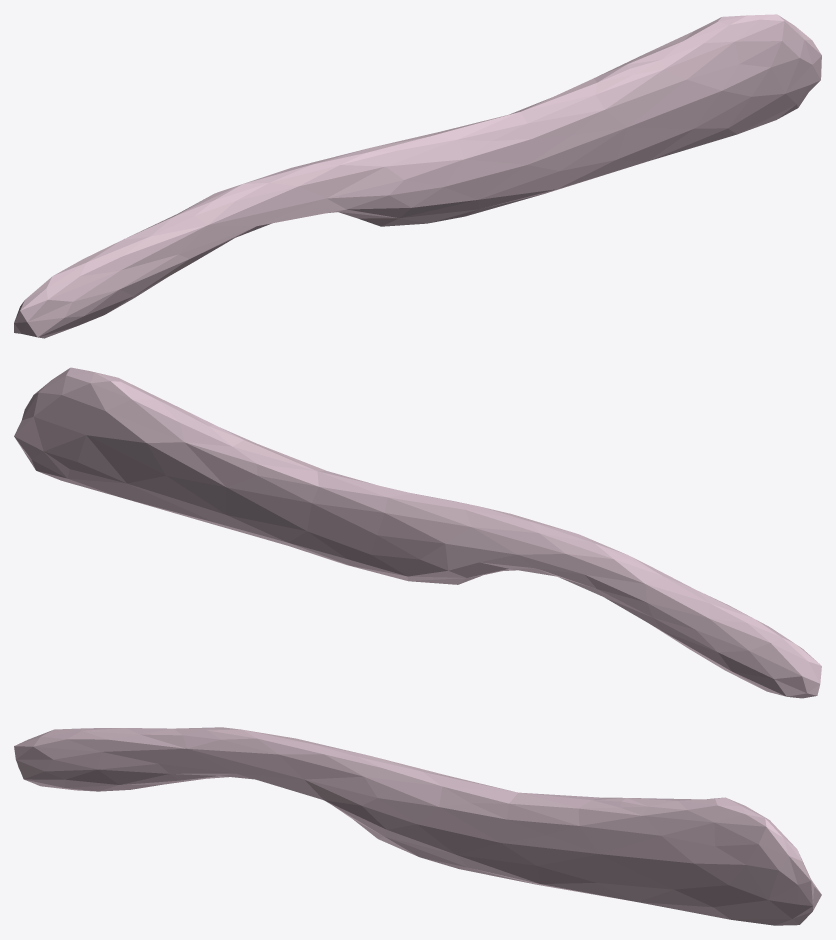
3 renders of one model, top to bottom at view 1: azimuth 30°, elevation 25°; view 2: azimuth 150°, elevation 25°; view 3: azimuth 330°, elevation 25°, orthographic.
Parts seen in each view (by area): view 1: 230.obj; view 2: 230.obj; view 3: 230.obj.
Part boxes in pixels (x1,y1,x2,y2): 230.obj: [14, 14, 821, 338]; 230.obj: [14, 367, 821, 698]; 230.obj: [14, 727, 821, 925].
Bounding box in the file's own units: 2284 × 413 × 133.
